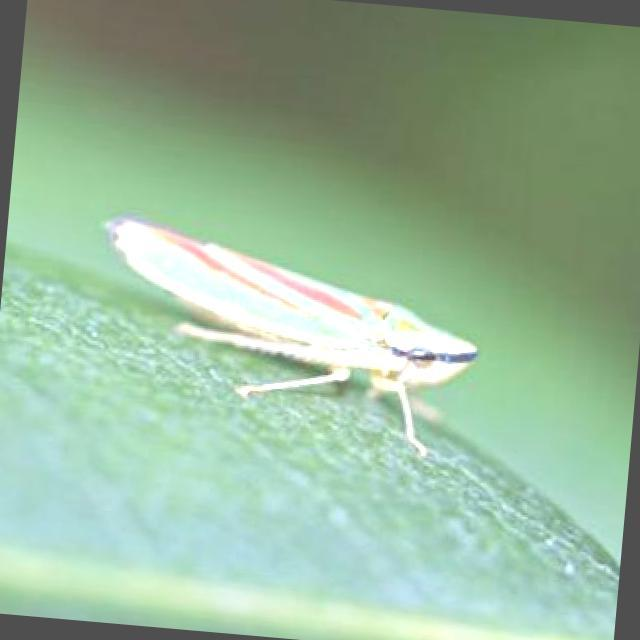green leaf hopper: (105, 218, 477, 455)
